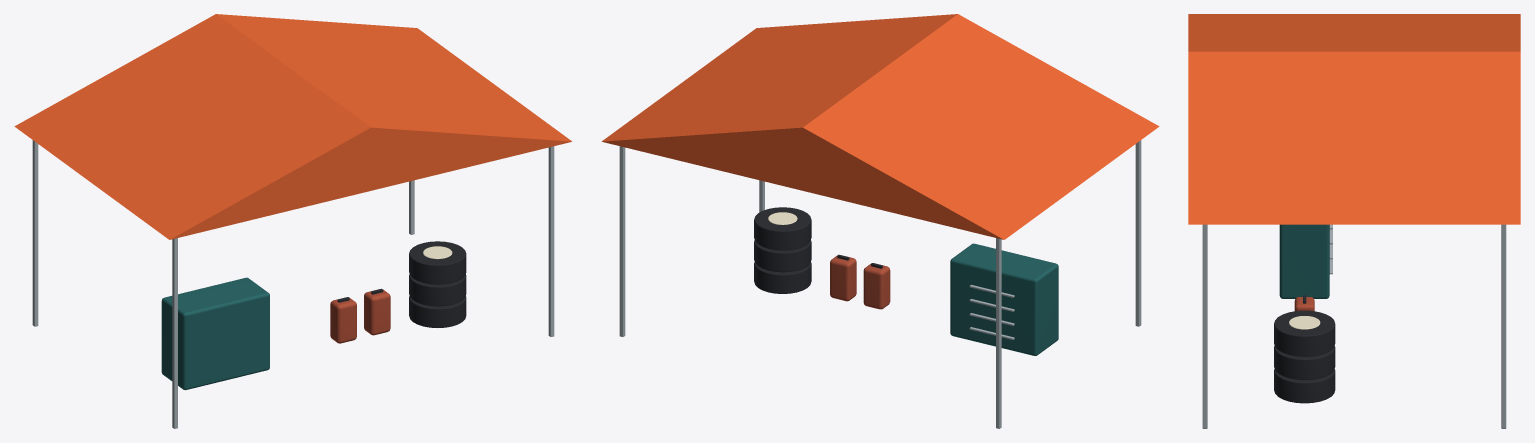
The model's file is service_station.glb.
The picture shows the model from 3 angles, left to right: view 1: azimuth 30°, elevation 25°; view 2: azimuth 150°, elevation 25°; view 3: azimuth 270°, elevation 25°; orthographic projection. The views are drawn at different scales.
Visible parts, largest first — view 1: orange, teal, dark, chrome, red; view 2: orange, teal, dark, chrome, red; view 3: orange, dark, teal, chrome, white.
Boxes of the visible parts, x1,y1,x2,y2 form: orange: (14, 14, 571, 239); teal: (161, 277, 269, 390); dark: (337, 241, 466, 327); chrome: (32, 140, 554, 428); red: (330, 289, 390, 343); orange: (602, 14, 1159, 239); teal: (950, 243, 1058, 355); dark: (754, 207, 882, 293); chrome: (619, 140, 1141, 428); red: (830, 255, 890, 309); orange: (1188, 14, 1520, 224); dark: (1274, 295, 1335, 403); teal: (1279, 224, 1329, 298); chrome: (1202, 224, 1506, 428); white: (1289, 316, 1320, 329).
Size of the model in its own units: 6 by 3.7 by 4.
